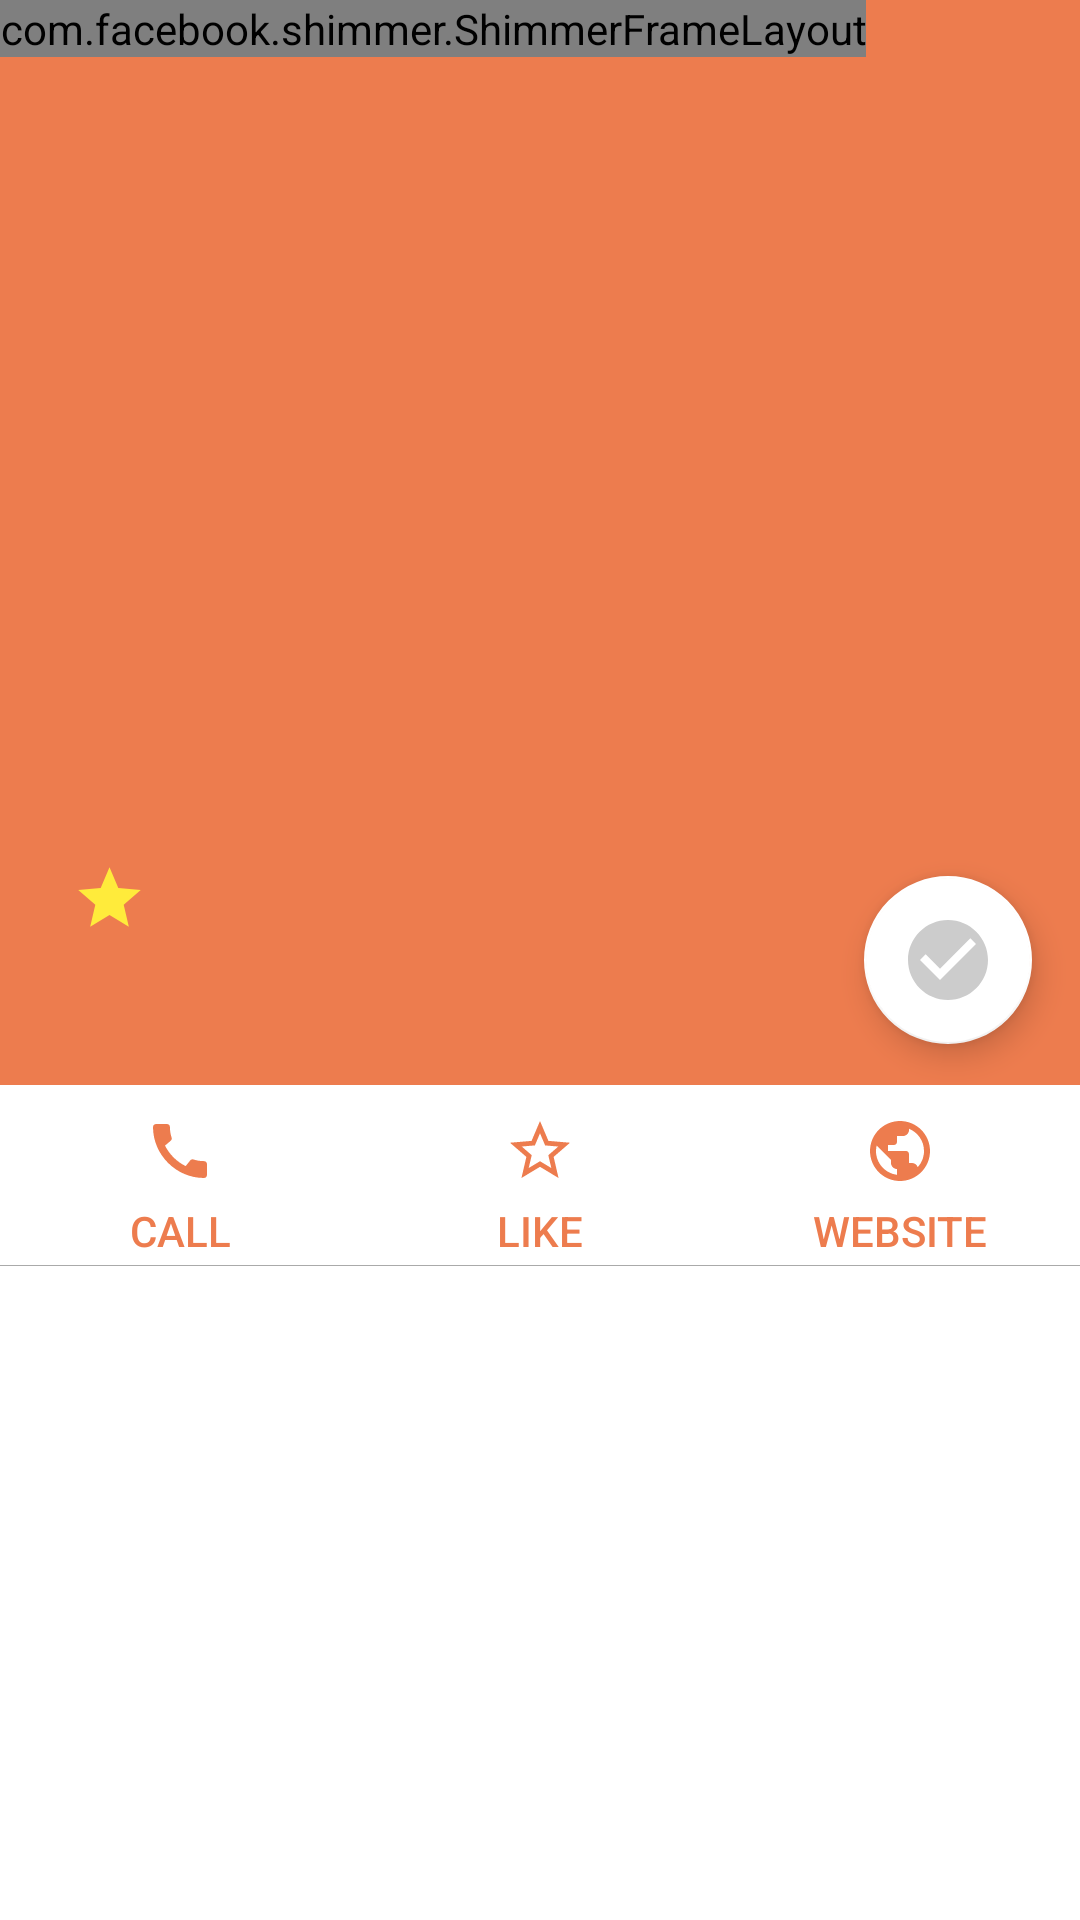

Icons on this 1080w x 1920h Android screen, each with the point to tap as point (x, y):
star full: point (109, 897)
